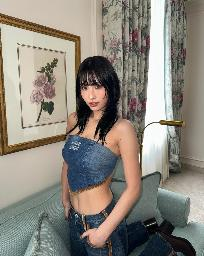face: (82, 78, 108, 110)
